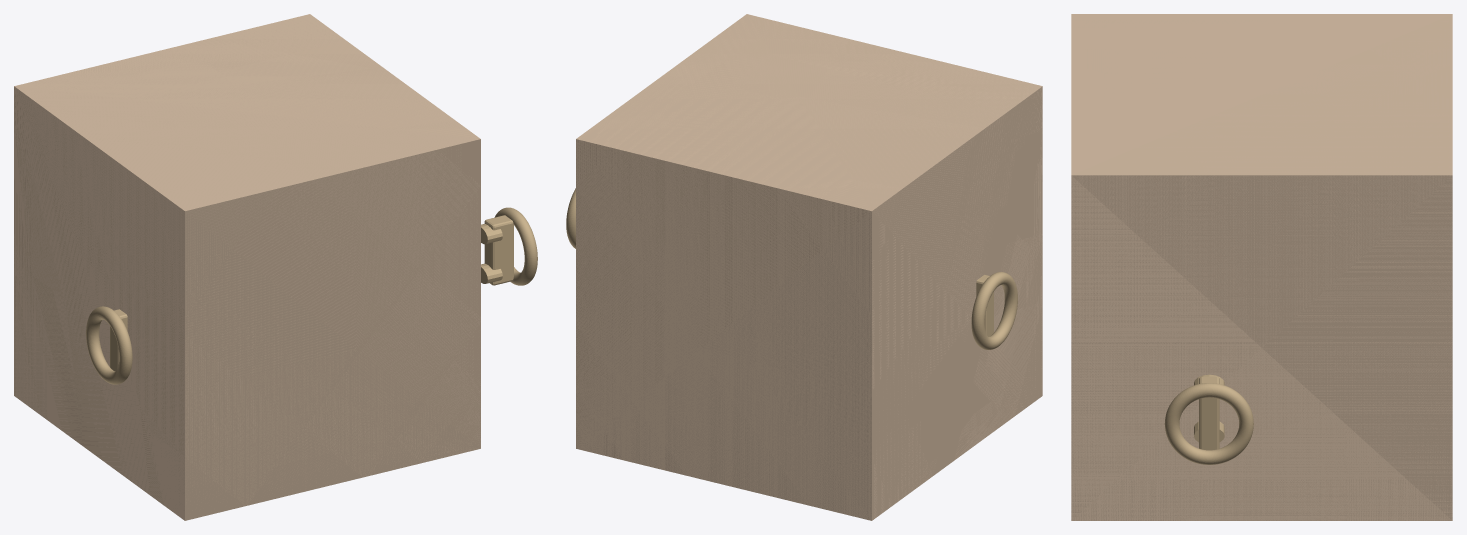
3 views of the same model, side by side, from view 1: azimuth 30°, elevation 25°; view 2: azimuth 150°, elevation 25°; view 3: azimuth 270°, elevation 25° (orthographic). The views are drawn at different scales.
Parts seen in each view (by area): view 1: object 1, object 10, Pot_Handle_2, Pot_Handle_Connector_1, Pot_Handle_1; view 2: object 1, object 10, Pot_Handle_2; view 3: object 1, object 10, Pot_Handle_1, Pot_Handle_Connector_1.
Boxes of the visible parts, box(x1,y1,x2,y2) form: object 1: box(14, 86, 480, 520); object 10: box(14, 14, 480, 210); Pot_Handle_2: box(86, 306, 132, 384); Pot_Handle_Connector_1: box(484, 215, 513, 285); Pot_Handle_1: box(494, 207, 537, 285); object 1: box(576, 86, 1042, 520); object 10: box(576, 14, 1042, 211); Pot_Handle_2: box(971, 272, 1017, 349); object 1: box(1071, 175, 1452, 520); object 10: box(1071, 14, 1452, 175); Pot_Handle_1: box(1164, 383, 1253, 464); Pot_Handle_Connector_1: box(1199, 376, 1219, 450).
Bounding box in the file's own units: 0.8329 × 0.5915 × 0.5915.
